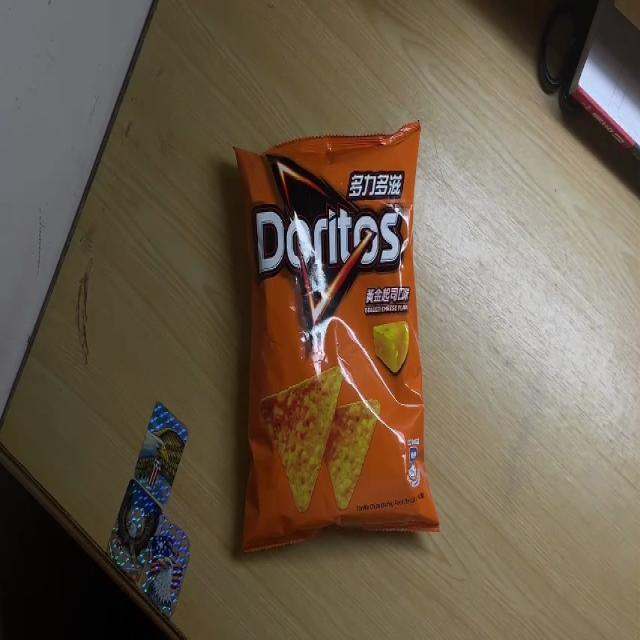Doritos: (233, 122, 441, 554)
